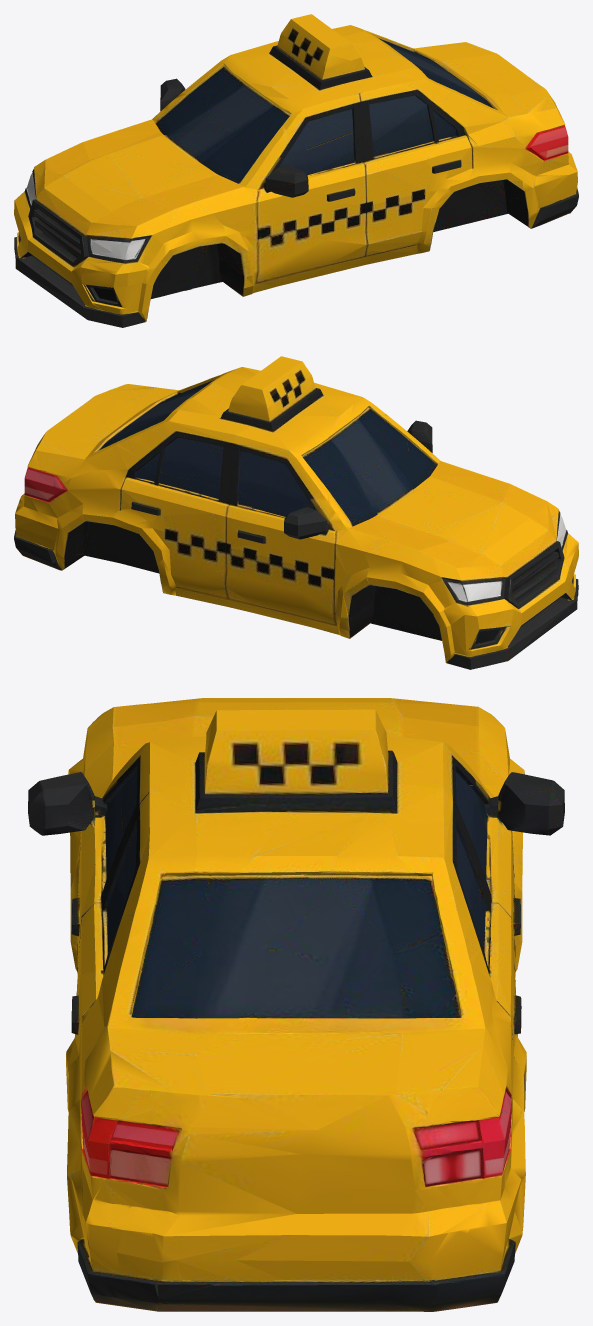
Rendered from taxi.glb.
3 views of the same model, one above another, from view 1: azimuth 30°, elevation 25°; view 2: azimuth 150°, elevation 25°; view 3: azimuth 270°, elevation 25° (orthographic). The views are drawn at different scales.
Bounding box in the file's own units: 1.9 × 0.7315 × 0.9006.
1 material, 1 textured.
